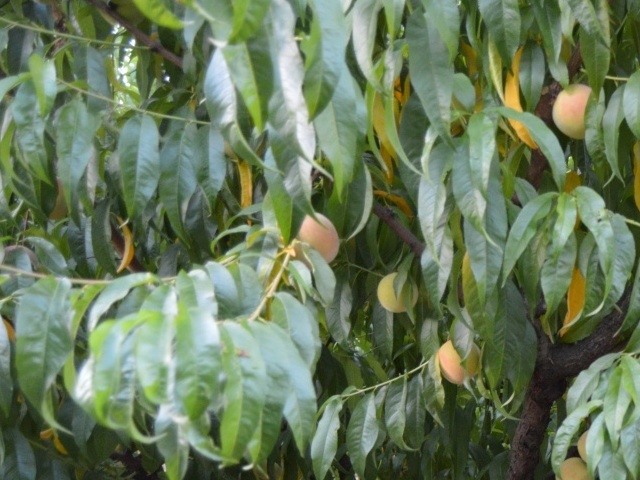peach: (293, 210, 346, 270), (545, 82, 598, 141), (434, 334, 487, 386), (374, 267, 423, 315), (574, 421, 601, 469), (548, 456, 599, 480)
